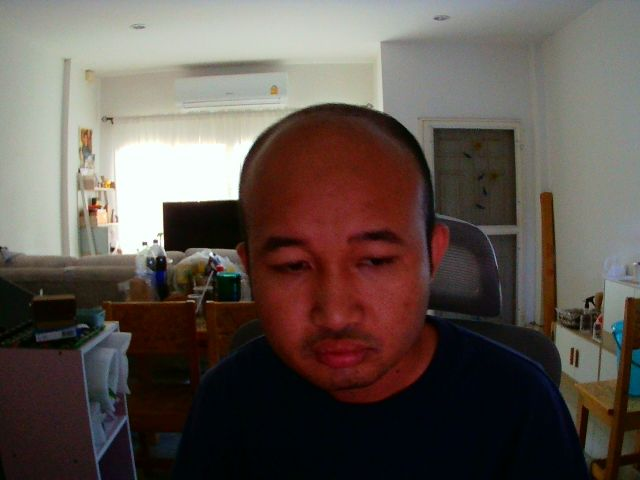face: (236, 101, 432, 392)
